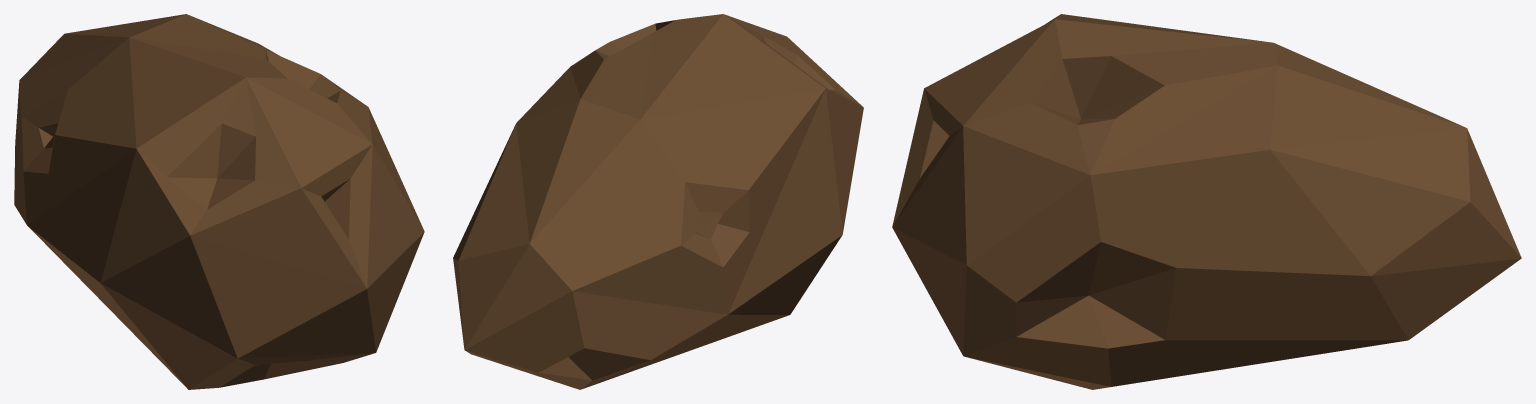
Rendered from space-asteroid.glb.
The picture shows the model from 3 angles, left to right: view 1: azimuth 30°, elevation 25°; view 2: azimuth 150°, elevation 25°; view 3: azimuth 270°, elevation 25°; orthographic projection. The views are drawn at different scales.
Visible parts, largest first — view 1: asteroid; view 2: asteroid; view 3: asteroid.
Part boxes in pixels (x1,y1,x2,y2): asteroid: [14, 14, 424, 389]; asteroid: [453, 14, 863, 389]; asteroid: [892, 14, 1521, 389].
Size of the model in its own units: 2.94 by 3.11 by 5.09.
